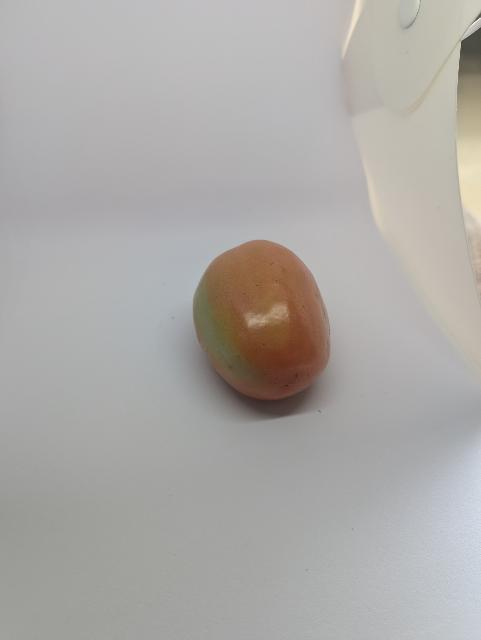turning: (184, 235, 343, 415)
